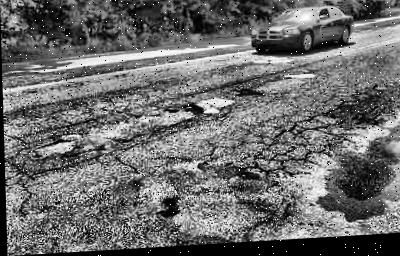pothole: (34, 137, 79, 157), (156, 196, 180, 220), (234, 88, 260, 103), (180, 105, 203, 118), (163, 107, 178, 118)
